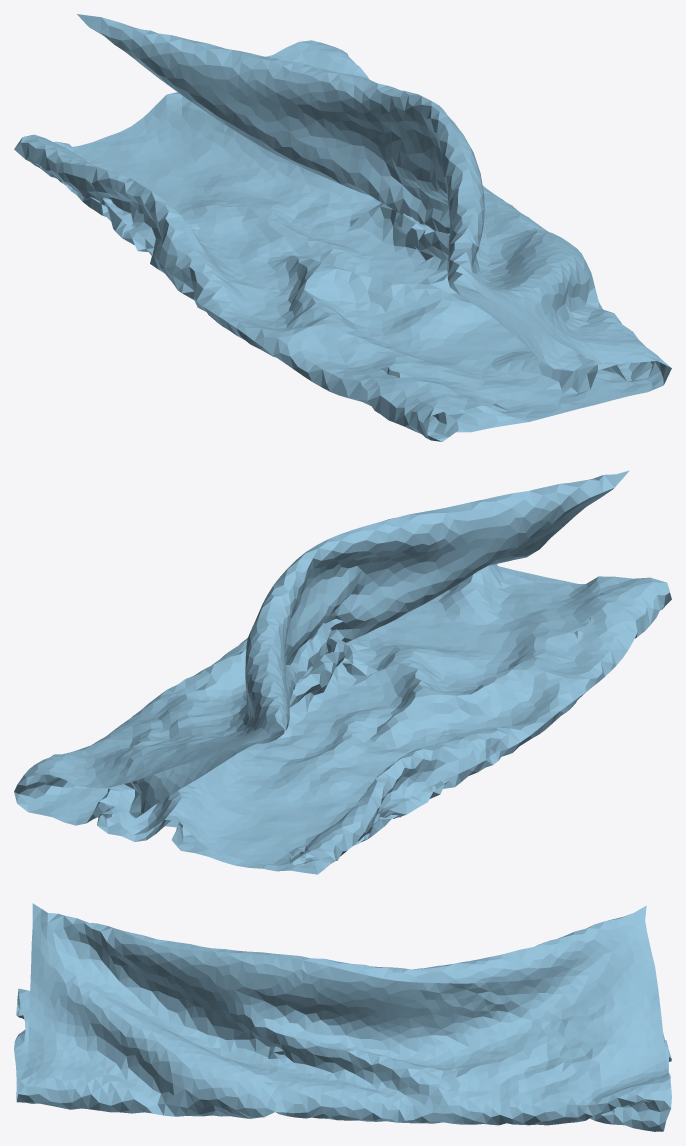
Rendered from frame_18.glb.
The picture shows the model from 3 angles, top to bottom: view 1: azimuth 30°, elevation 25°; view 2: azimuth 150°, elevation 25°; view 3: azimuth 270°, elevation 25°; orthographic projection. The views are drawn at different scales.
Visible parts, largest first — view 1: frame_18.obj; view 2: frame_18.obj; view 3: frame_18.obj.
Boxes of the visible parts, x1,y1,x2,y2 form: frame_18.obj: (14,14,671,441); frame_18.obj: (14,470,671,874); frame_18.obj: (14,903,671,1131).
Size of the model in its own units: 0.8031 by 0.3601 by 1.6.
